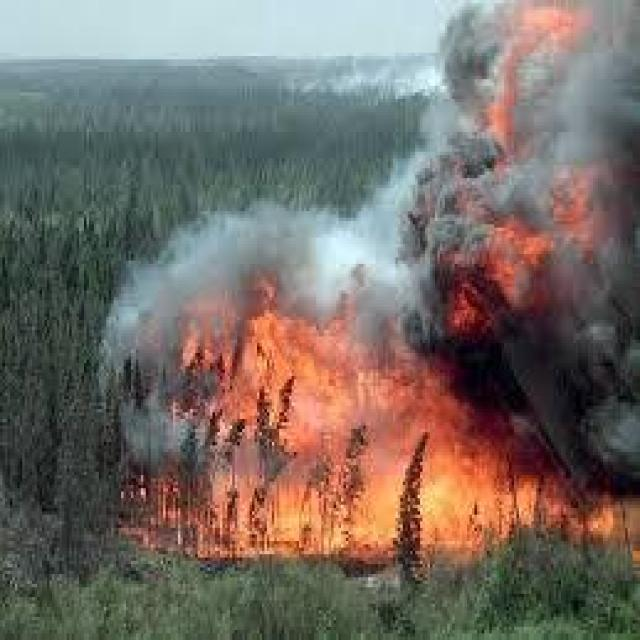fire: (195, 328, 560, 608)
smoke: (153, 26, 632, 326)
